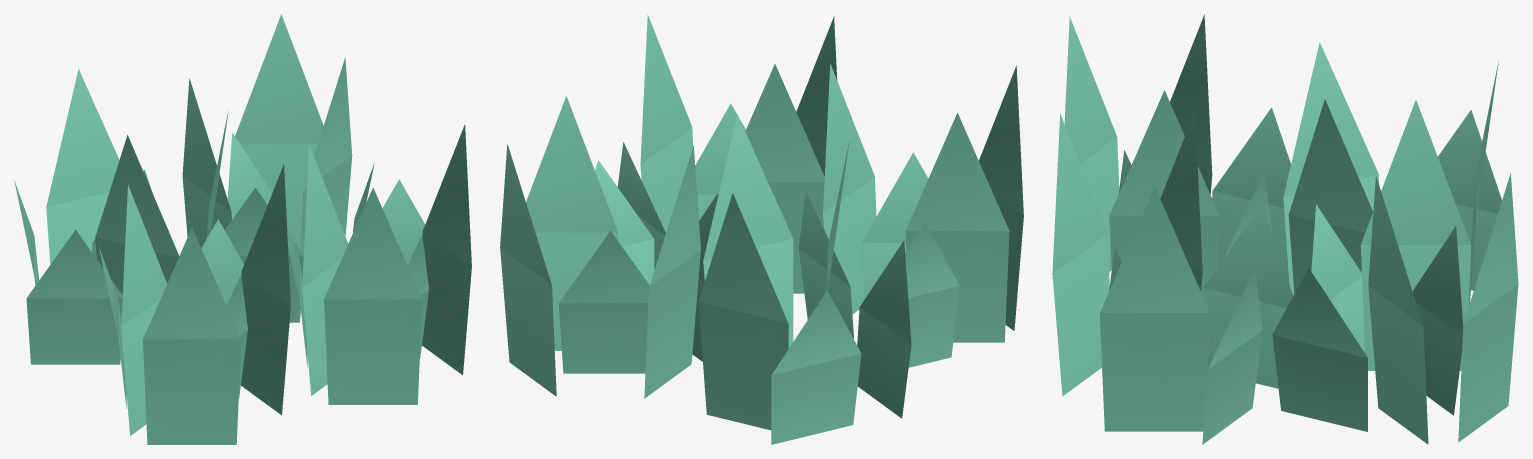
Rendered from Grass.fbx.
3 views of the same model, side by side, from view 1: azimuth 30°, elevation 25°; view 2: azimuth 150°, elevation 25°; view 3: azimuth 270°, elevation 25° (orthographic). The views are drawn at different scales.
Parts seen in each view (by area): view 1: grassLarge; view 2: grassLarge; view 3: grassLarge.
Part boxes in pixels (<box>): grassLarge: <box>14,14,471,444</box>; grassLarge: <box>500,14,1023,444</box>; grassLarge: <box>1052,14,1518,444</box>.
Bounding box in the file's own units: 63.17 × 39.54 × 64.69.
